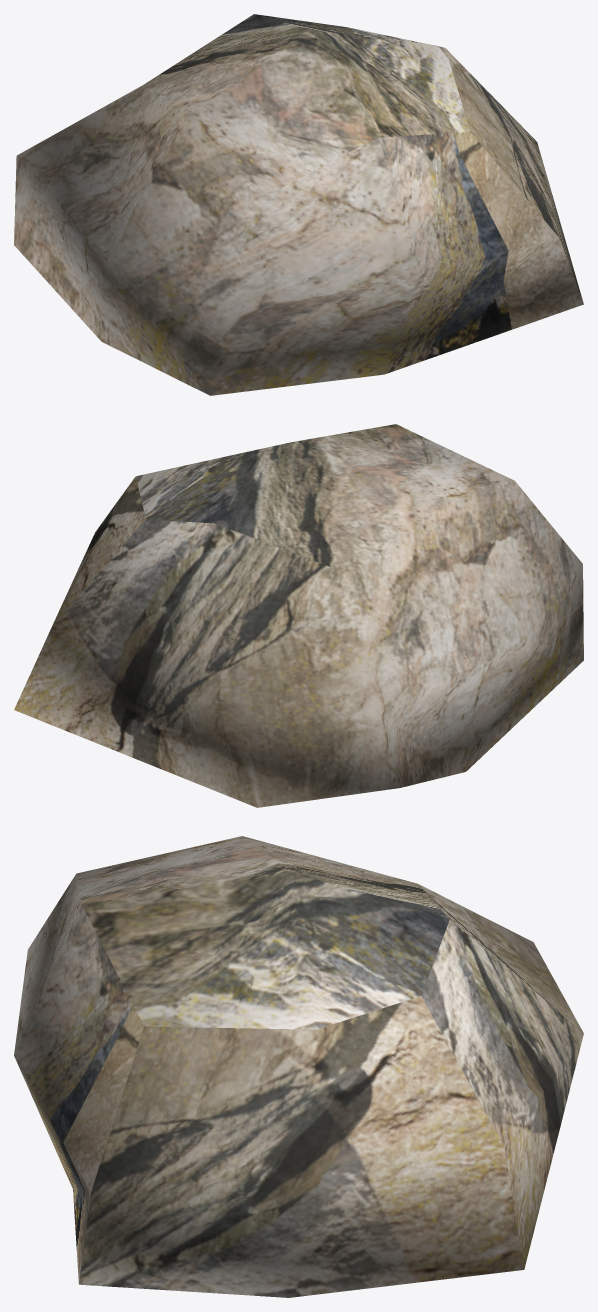
The model's file is stone_01.glb.
3 views of the same model, one above another, from view 1: azimuth 30°, elevation 25°; view 2: azimuth 150°, elevation 25°; view 3: azimuth 270°, elevation 25° (orthographic). The views are drawn at different scales.
Visible parts, largest first — view 1: stone_012; view 2: stone_012; view 3: stone_012.
Part boxes in pixels (x1,y1,x2,y2): stone_012: (14, 14, 583, 395); stone_012: (14, 424, 583, 807); stone_012: (14, 836, 583, 1297).
Size of the model in its own units: 3.25 by 2.07 by 3.09.
Materials: 1 (1 with a texture image).
